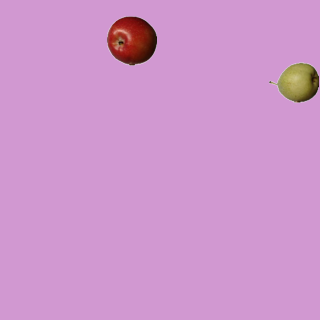Apple Braeburn: (106, 15, 156, 65)
Pear: (268, 57, 318, 107)
